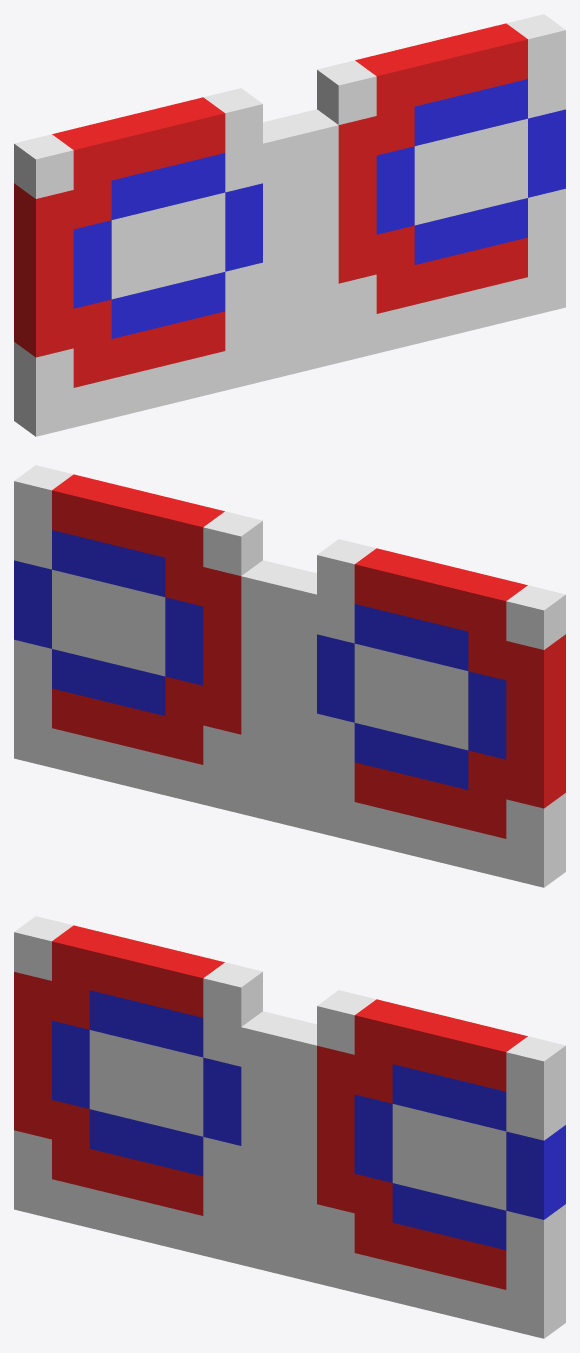
3 renders of one model, top to bottom at view 1: azimuth 30°, elevation 25°; view 2: azimuth 150°, elevation 25°; view 3: azimuth 330°, elevation 25°, orthographic.
Visible parts, largest first — view 1: eye-shapes050, eye-shapes003, eye-shapes002; view 2: eye-shapes050, eye-shapes003, eye-shapes002; view 3: eye-shapes050, eye-shapes003, eye-shapes002.
Part boxes in pixels (x1,y1,x2,y2): eye-shapes050: (14, 14, 565, 436); eye-shapes003: (14, 23, 527, 387); eye-shapes002: (73, 79, 565, 338); eye-shapes050: (14, 465, 565, 887); eye-shapes003: (52, 474, 565, 838); eye-shapes002: (14, 530, 506, 789); eye-shapes050: (14, 916, 565, 1338); eye-shapes003: (14, 925, 527, 1289); eye-shapes002: (52, 990, 565, 1250).
Size of the model in its own units: 140 by 70 by 10.
3 materials, 3 textured.
